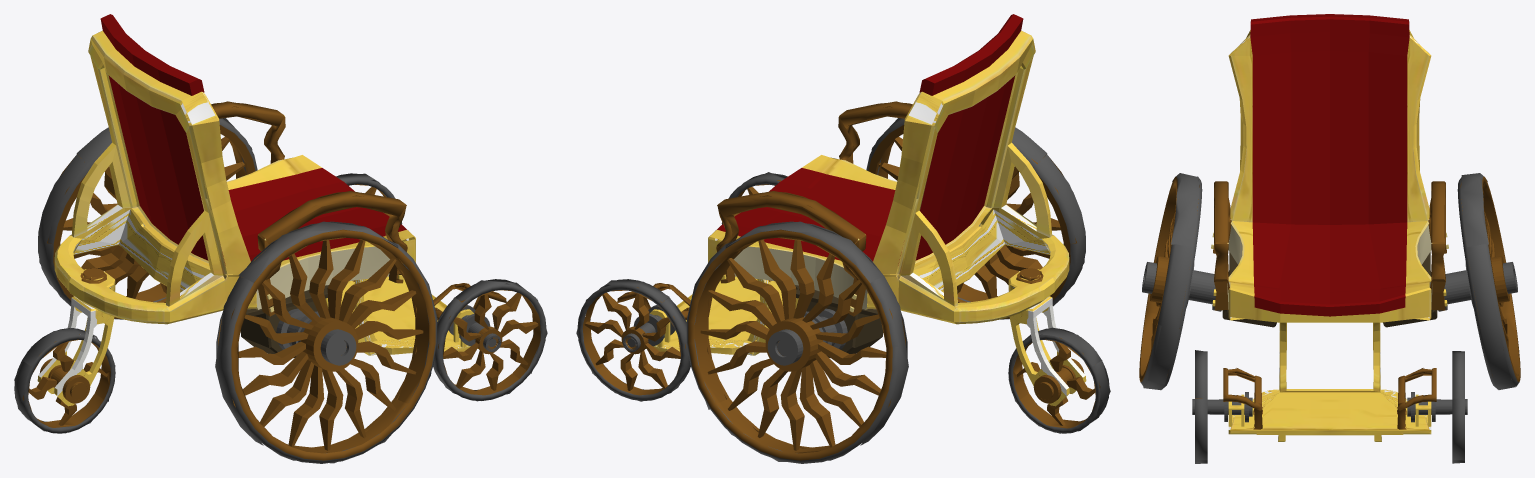
The model's file is t_silla_ruedas_antigua.glb.
3 renders of one model, left to right at view 1: azimuth 30°, elevation 25°; view 2: azimuth 150°, elevation 25°; view 3: azimuth 270°, elevation 25°, orthographic. The views are drawn at different scales.
Parts seen in each view (by area): view 1: Object_11; view 2: Object_11; view 3: Object_11.
Boxes of the visible parts, x1=… form: Object_11: x1=14, y1=14, x2=547, y2=463; Object_11: x1=576, y1=14, x2=1110, y2=463; Object_11: x1=1139, y1=14, x2=1520, y2=463.
Bounding box in the file's own units: 1.51 × 1.15 × 1.23.
Materials: 8 (2 with a texture image).
